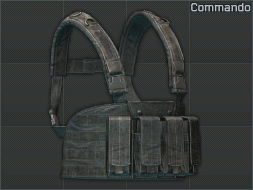Blackhawk! Commando Chest Harness Black: (0, 0, 253, 190)
